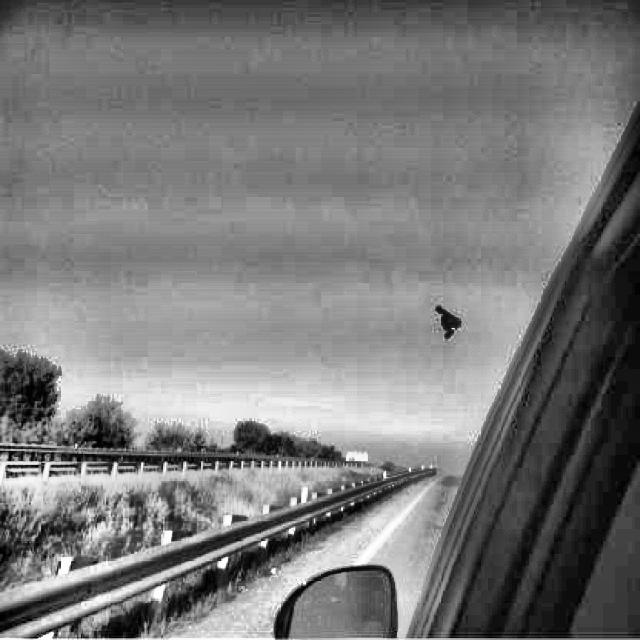B2: (436, 306, 462, 339)
